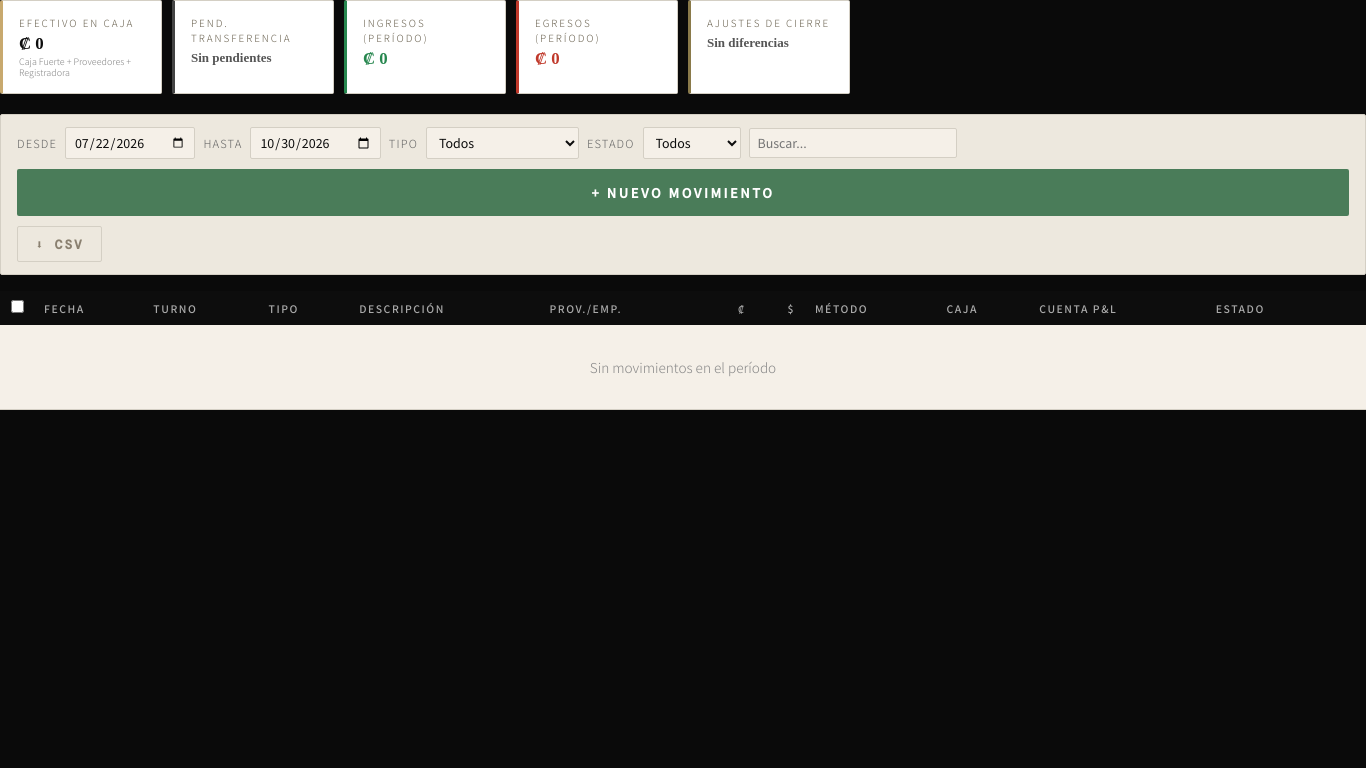
Test: CashMovimientos · Nuevo movimiento — monto negativo (Ítem 2) › ₡ negativo: no crea y avisa
Click the button "+ Nuevo movimiento" at (683,192), box [17,169,1349,216]
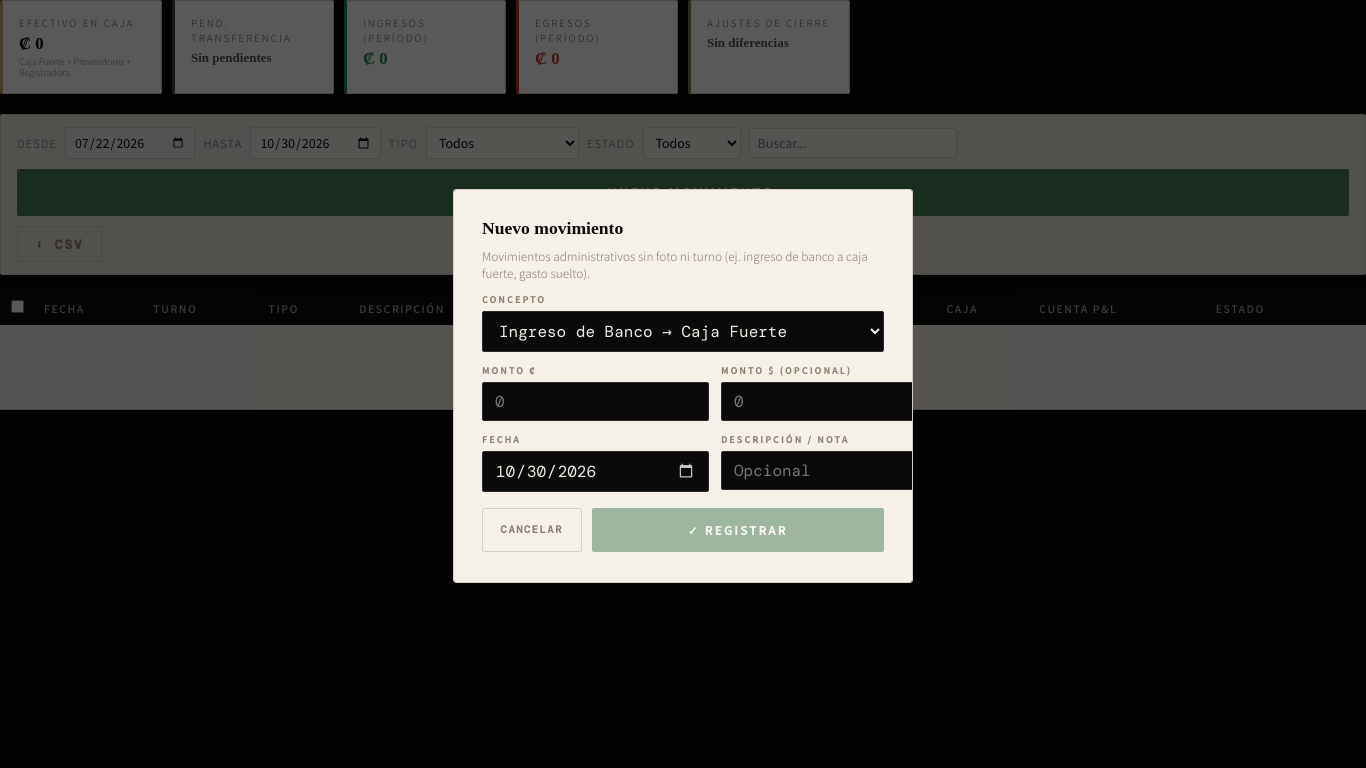
Type "-100" into the number field with placeholder "0" below "Monto ₡" at (596,401), box [482,382,709,421]
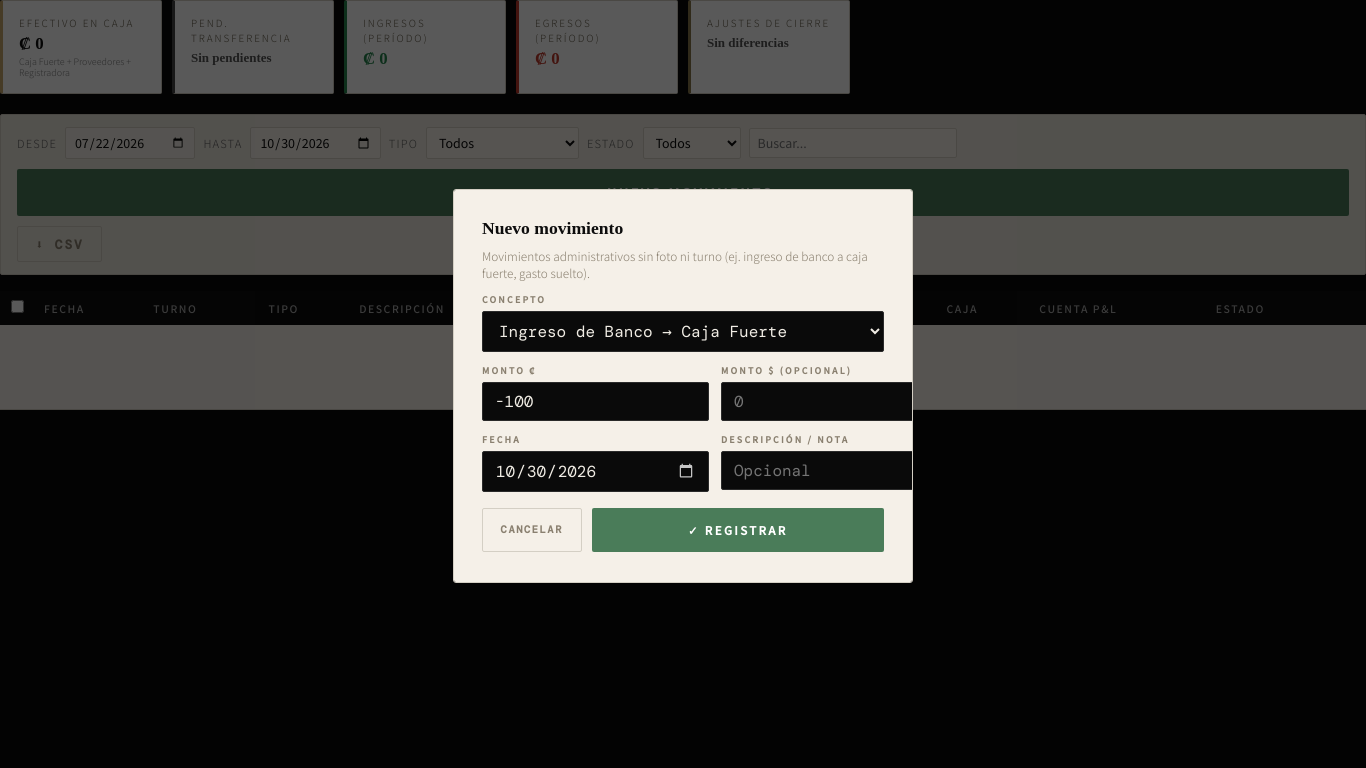
Click the button "✓ Registrar" at (738,530), box [592,508,884,552]
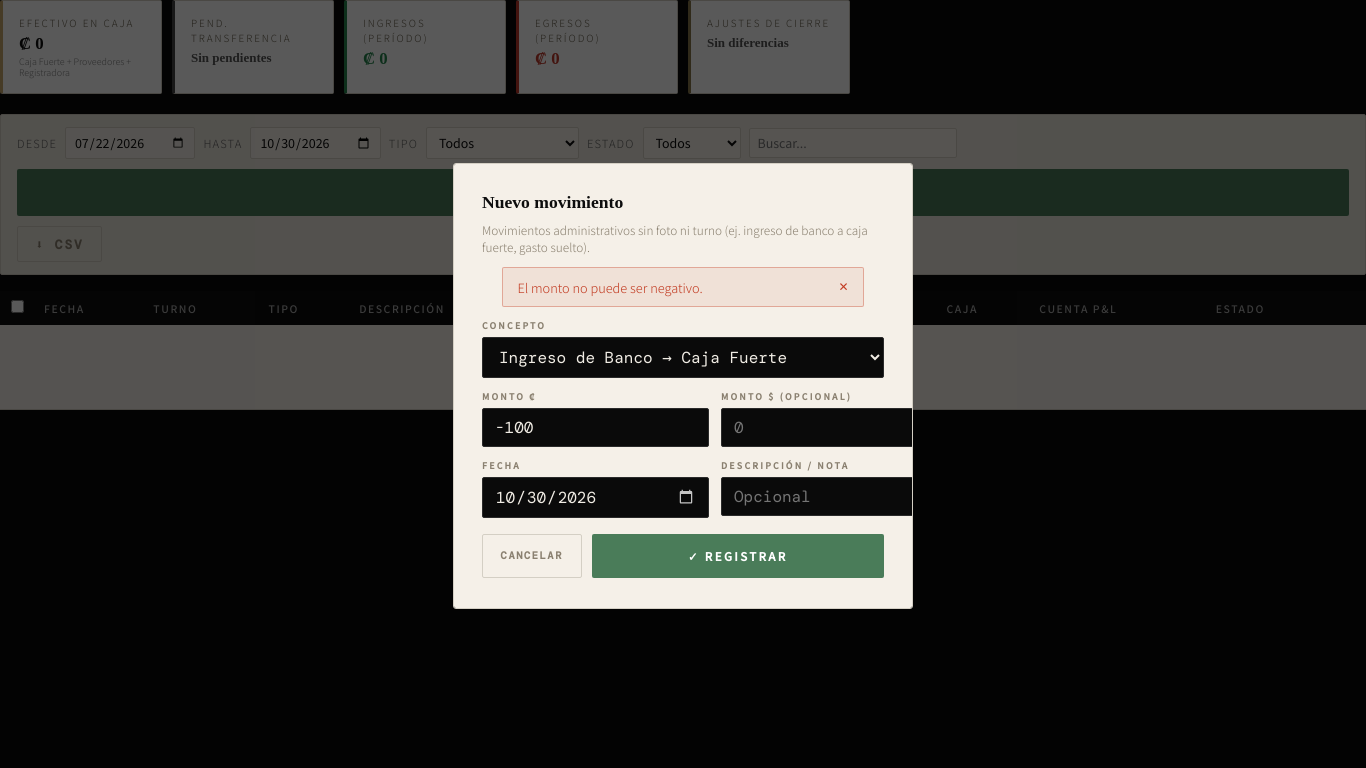
Expected: the text "El monto no puede ser negativo." is shown, [517,278,703,297]
